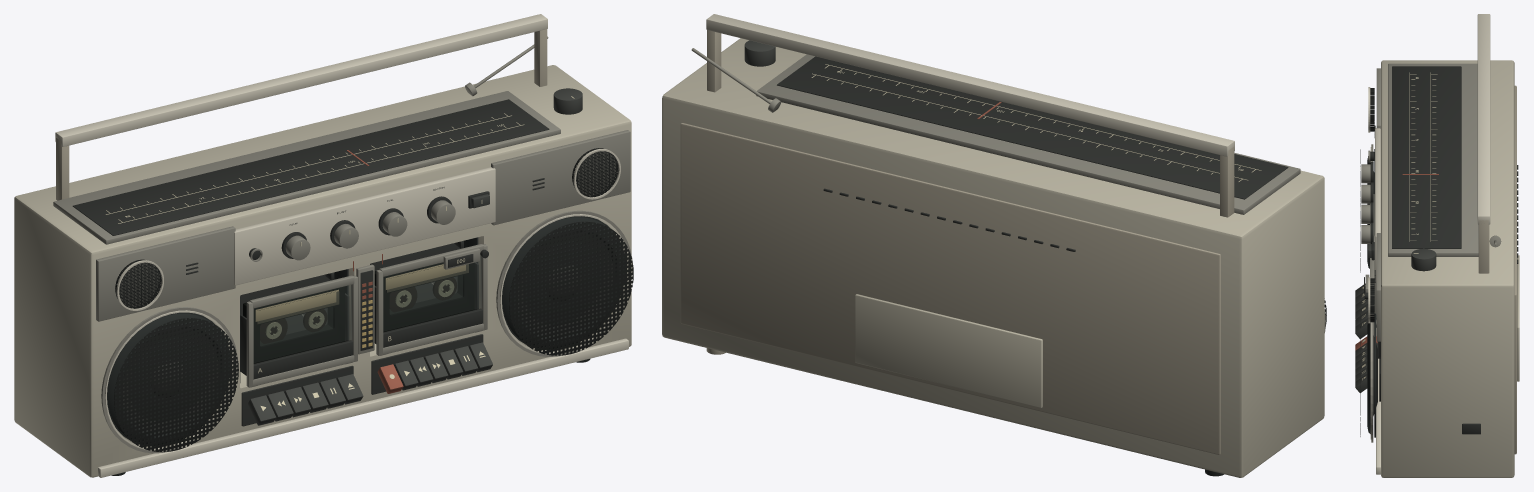
The model's file is Radio_DualDeck.fbx.
3 renders of one model, left to right at view 1: azimuth 30°, elevation 25°; view 2: azimuth 150°, elevation 25°; view 3: azimuth 270°, elevation 25°, orthographic. The views are drawn at different scales.
Visible parts, largest first — view 1: Housing_Main, Tuning_Dial, Speaker_R_Grille, Speaker_L_Grille, Controls_Fascia, Tuning_Bezel, Handle_Grip, Tweeter_L_Panel, Tweeter_R_Panel, Lower_Trim, Deck_A_Window, Deck_B_Window (+32 smaller); view 2: Rear_ServicePanel, Housing_Main, Tuning_Dial, Rear_BatteryCover, Handle_Grip, Tuning_Bezel, Handle_Arm, Handle_Arm.001, Tuning_Knob.001; view 3: Housing_Main, Tuning_Dial, Tuning_Bezel, Handle_Grip, Rear_ServicePanel, Controls_Fascia, Speaker_R_Reused_Speaker, Handle_Arm.001, Tweeter_R_Panel, Tuning_Knob.001, Lower_Trim, Rear_BatteryCover (+12 smaller).
Part boxes in pixels (x1=…): Housing_Main: x1=14, y1=65, x2=631, y2=477; Tuning_Dial: x1=72, y1=99, x2=549, y2=235; Speaker_R_Grille: x1=509, y1=221, x2=633, y2=355; Speaker_L_Grille: x1=114, y1=318, x2=238, y2=452; Controls_Fascia: x1=234, y1=167, x2=495, y2=285; Tuning_Bezel: x1=53, y1=91, x2=560, y2=244; Handle_Grip: x1=55, y1=14, x2=547, y2=146; Tweeter_L_Panel: x1=96, y1=226, x2=235, y2=321; Tweeter_R_Panel: x1=491, y1=130, x2=630, y2=225; Lower_Trim: x1=97, y1=338, x2=628, y2=477; Deck_A_Window: x1=254, y1=285, x2=351, y2=362; Deck_B_Window: x1=383, y1=255, x2=481, y2=330; Rear_ServicePanel: x1=680, y1=123, x2=1220, y2=454; Housing_Main: x1=662, y1=38, x2=1324, y2=477; Tuning_Dial: x1=777, y1=56, x2=1288, y2=199; Rear_BatteryCover: x1=855, y1=294, x2=1042, y2=407; Handle_Grip: x1=706, y1=14, x2=1234, y2=156; Tuning_Bezel: x1=756, y1=54, x2=1300, y2=214; Handle_Arm: x1=1220, y1=147, x2=1234, y2=217; Handle_Arm.001: x1=707, y1=30, x2=721, y2=92; Tuning_Knob.001: x1=744, y1=40, x2=775, y2=66; Housing_Main: x1=1381, y1=60, x2=1514, y2=477; Tuning_Dial: x1=1392, y1=66, x2=1461, y2=248; Tuning_Bezel: x1=1388, y1=63, x2=1478, y2=256; Handle_Grip: x1=1477, y1=14, x2=1490, y2=224; Rear_ServicePanel: x1=1514, y1=85, x2=1516, y2=454; Controls_Fascia: x1=1375, y1=128, x2=1380, y2=281; Speaker_R_Reused_Speaker: x1=1367, y1=313, x2=1375, y2=437; Handle_Arm.001: x1=1478, y1=220, x2=1489, y2=273; Tweeter_R_Panel: x1=1376, y1=233, x2=1380, y2=341; Tuning_Knob.001: x1=1411, y1=248, x2=1436, y2=271; Lower_Trim: x1=1376, y1=328, x2=1380, y2=474; Rear_BatteryCover: x1=1517, y1=255, x2=1519, y2=381.
Size of the model in its own units: 56.15 by 30.2 by 17.24.
Materials: 20 (8 with a texture image).
